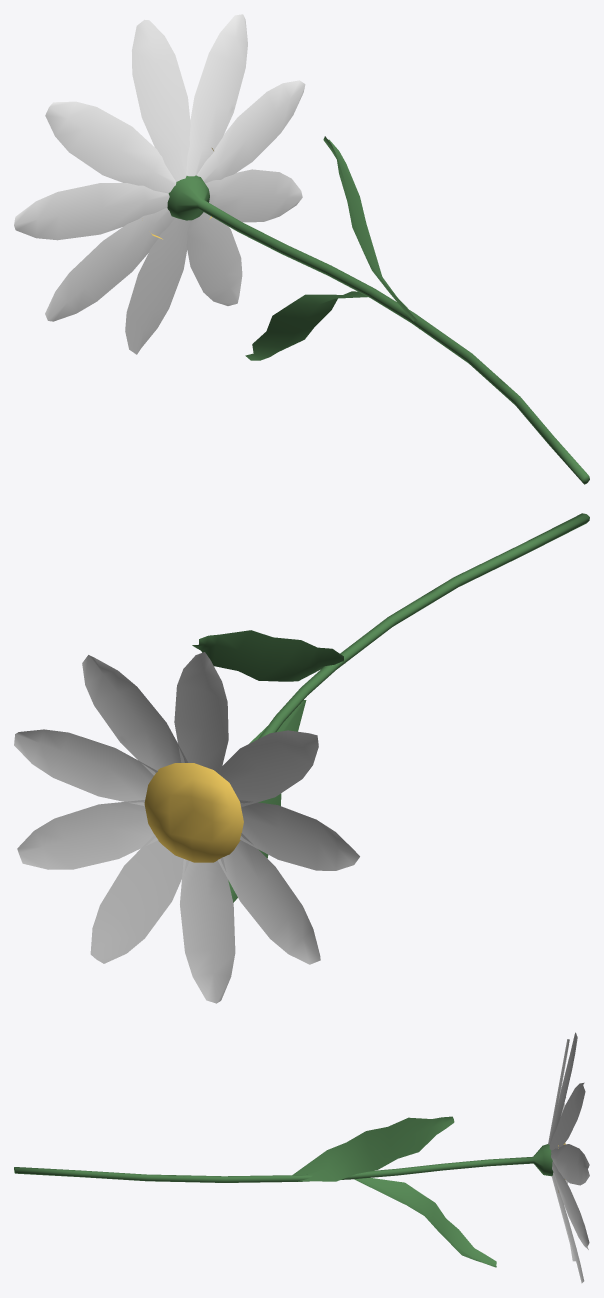
File: flower.fbx
3 views of the same model, one above another, from view 1: azimuth 30°, elevation 25°; view 2: azimuth 150°, elevation 25°; view 3: azimuth 270°, elevation 25° (orthographic). The views are drawn at different scales.
Parts seen in each view (by area): view 1: Cube; view 2: Cube; view 3: Cube.
Part boxes in pixels (x1,y1,x2,y2): Cube: [14, 14, 589, 484]; Cube: [14, 513, 589, 1003]; Cube: [14, 1032, 589, 1283].
Bounding box in the file's own units: 385 × 395 × 889.
Materials: 1 (1 with a texture image).
